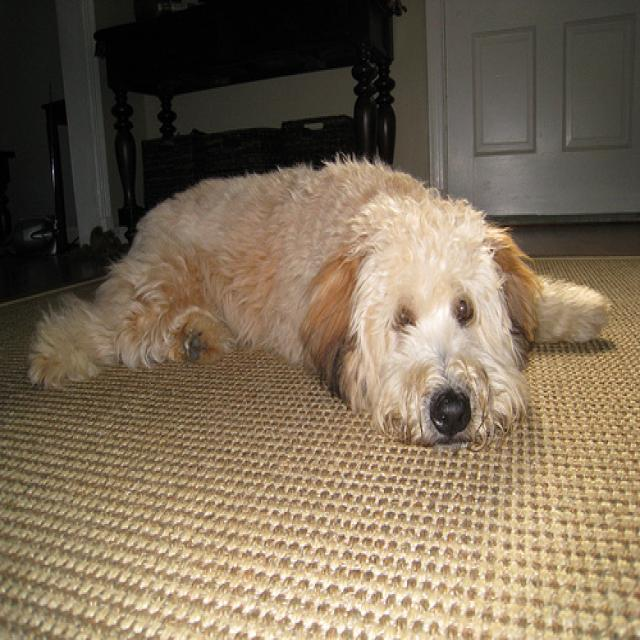dog-wheaten_terrier: (22, 159, 607, 447)
